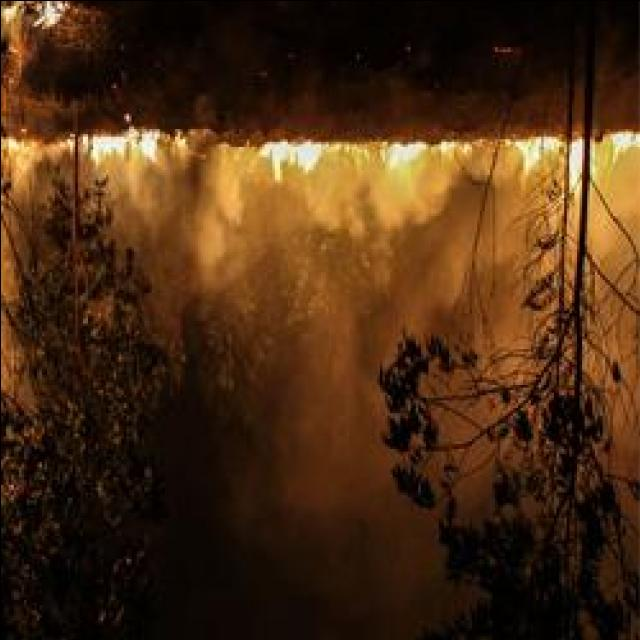fire: (378, 138, 426, 218), (86, 128, 162, 166), (270, 138, 324, 174), (610, 128, 640, 158), (518, 141, 544, 173)
smoke: (280, 302, 376, 516), (180, 154, 273, 288), (130, 168, 178, 224)
